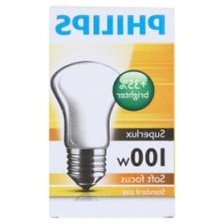book: (46, 3, 180, 219)
